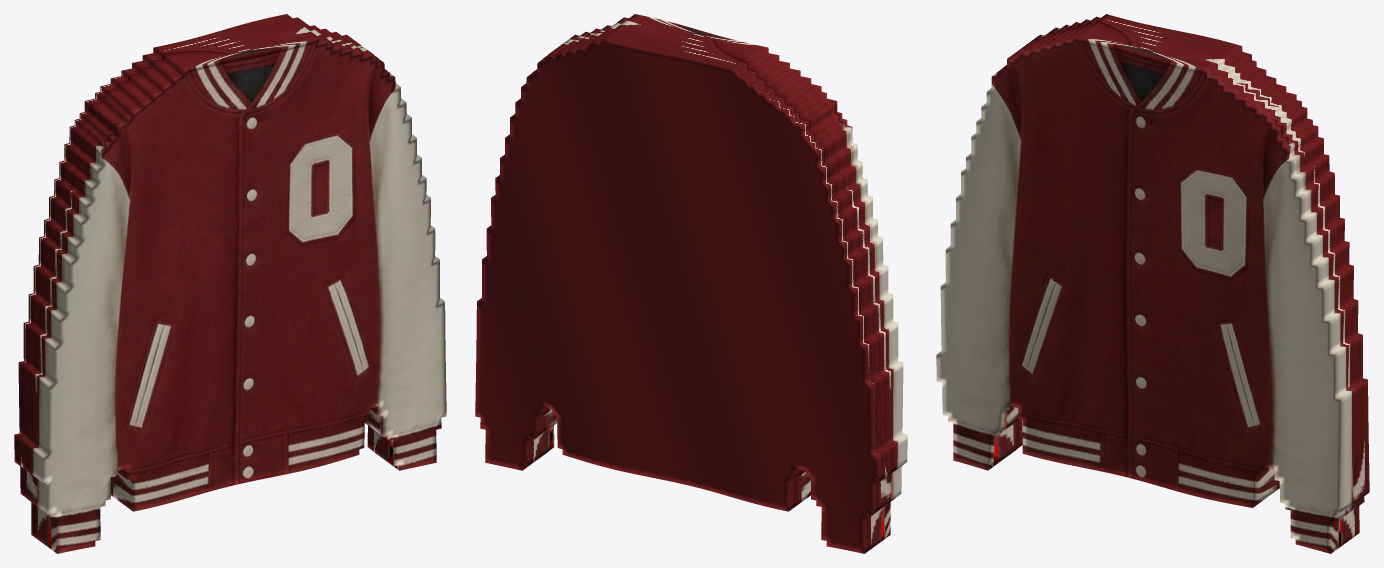
Rendered from offcut-varsity.glb.
The picture shows the model from 3 angles, left to right: view 1: azimuth 30°, elevation 25°; view 2: azimuth 150°, elevation 25°; view 3: azimuth 330°, elevation 25°; orthographic projection.
Parts seen in each view (by area): view 1: offcut-varsity; view 2: offcut-varsity; view 3: offcut-varsity.
Boxes of the visible parts, x1,y1,x2,y2 form: offcut-varsity: (14, 14, 446, 553); offcut-varsity: (475, 14, 907, 553); offcut-varsity: (936, 14, 1369, 553).
Size of the model in its own units: 0.702 by 0.756 by 0.104.
1 material, 1 textured.
